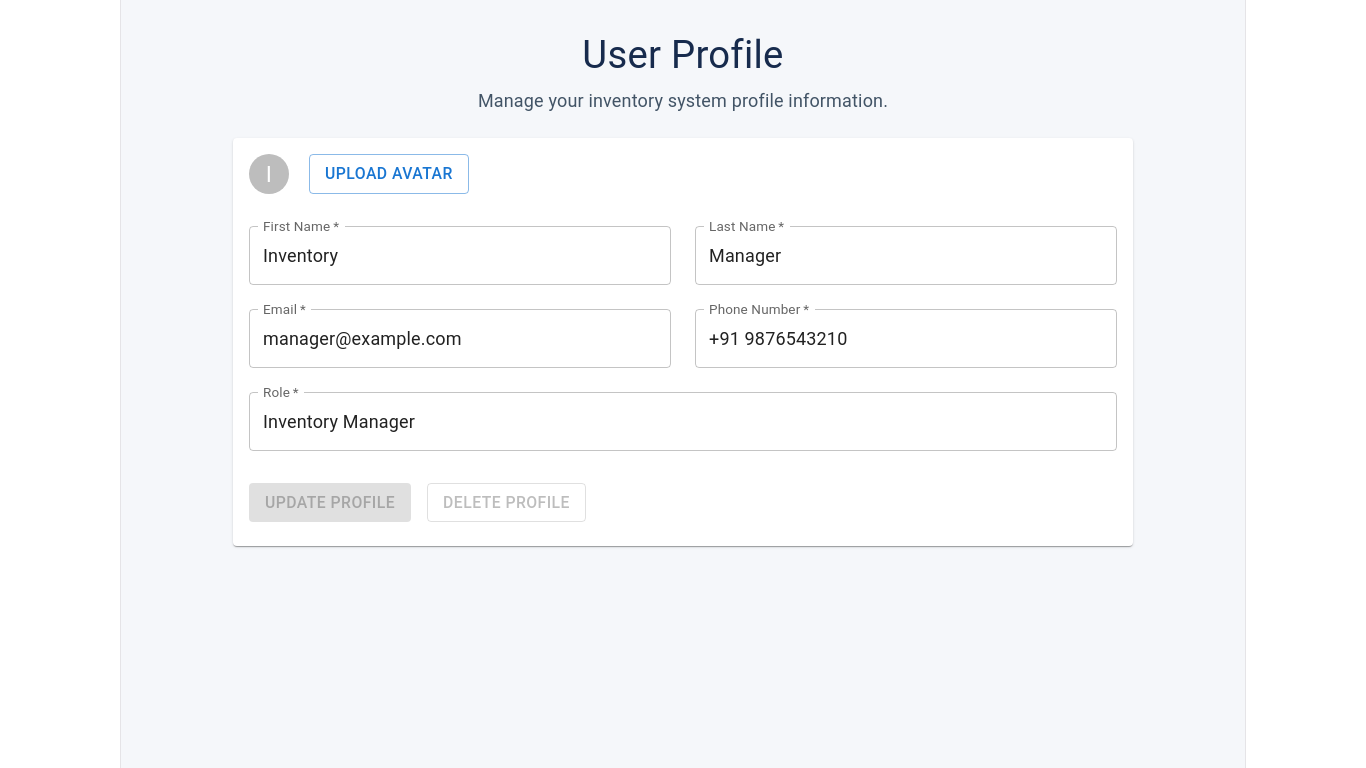
Test case: Profile integration › loads, updates, and deletes the user profile
This screenshot has width=1366, height=768.
Expected: the field showing "Inventory" is shown, top-left (249, 226), bottom-right (671, 285)
Replace the text in the field labelled "Last Name *" with "Administrator" at (906, 256), box top-left (695, 226), bottom-right (1117, 285)
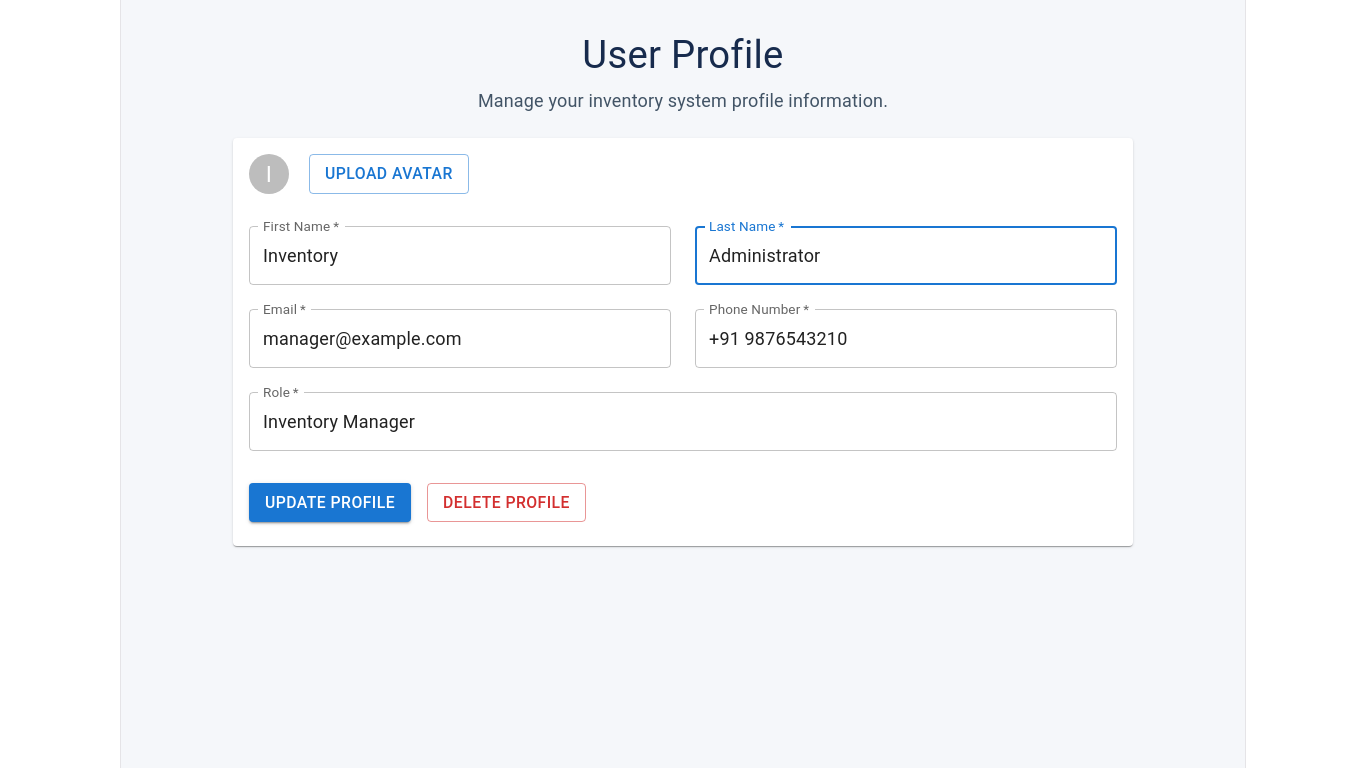
Click the button "Update Profile" at (330, 503), box top-left (249, 483), bottom-right (411, 522)
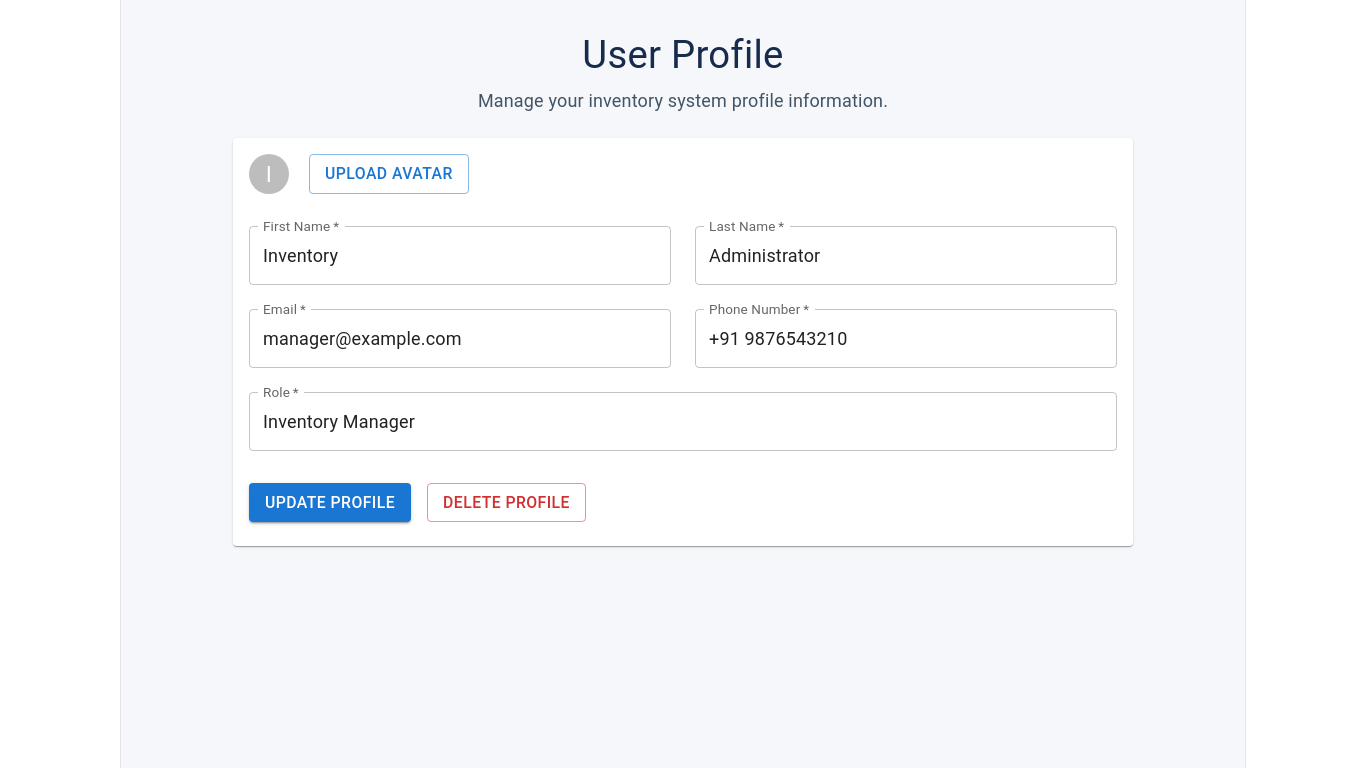
Now the button "Delete Profile" is enabled
Note: Open delete confirmation
Click the button "Delete Profile" at (506, 503), box top-left (427, 483), bottom-right (586, 522)
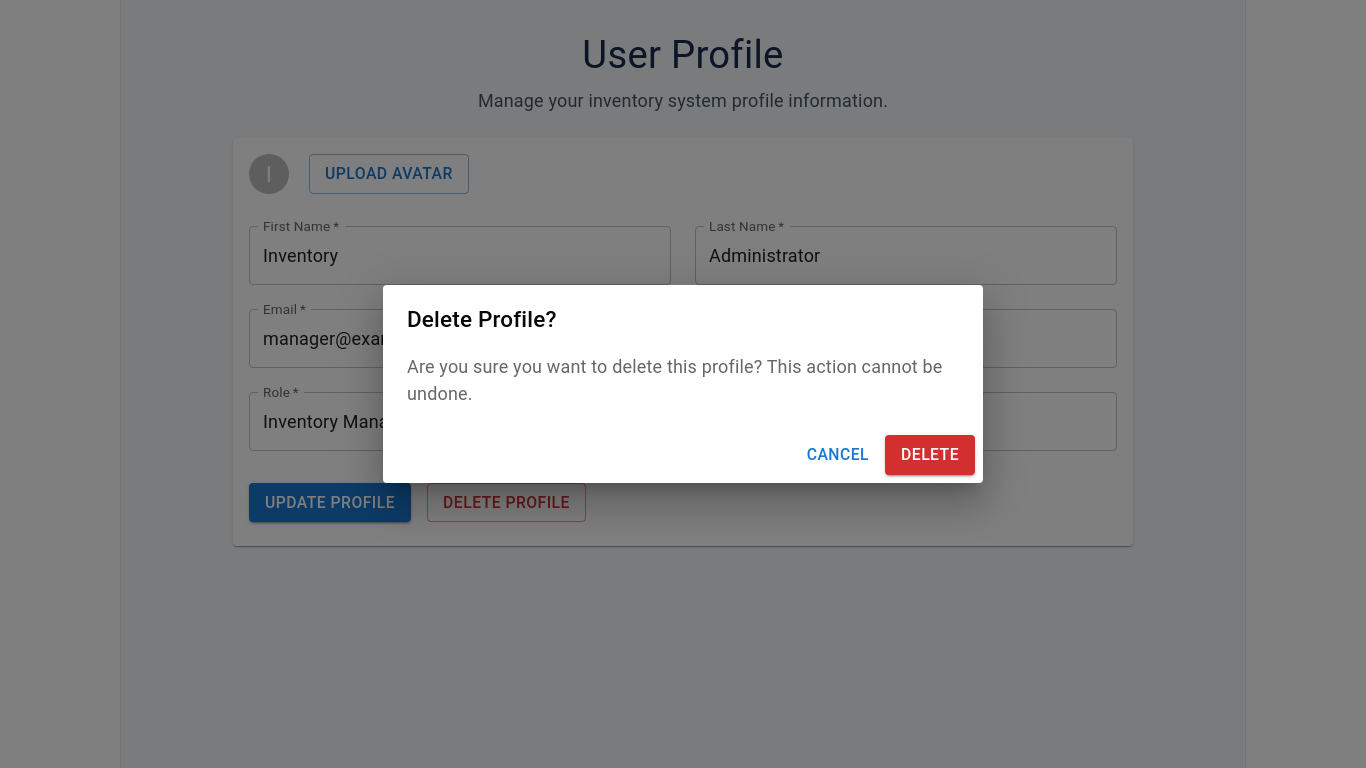
Now the dialog is shown, box top-left (383, 285), bottom-right (983, 483)
Now the text "Are you sure you want to delete this profile" is shown, box top-left (407, 356), bottom-right (942, 404)
Note: Confirm deletion
Click the button "Delete" at (930, 455), box top-left (885, 435), bottom-right (975, 475)
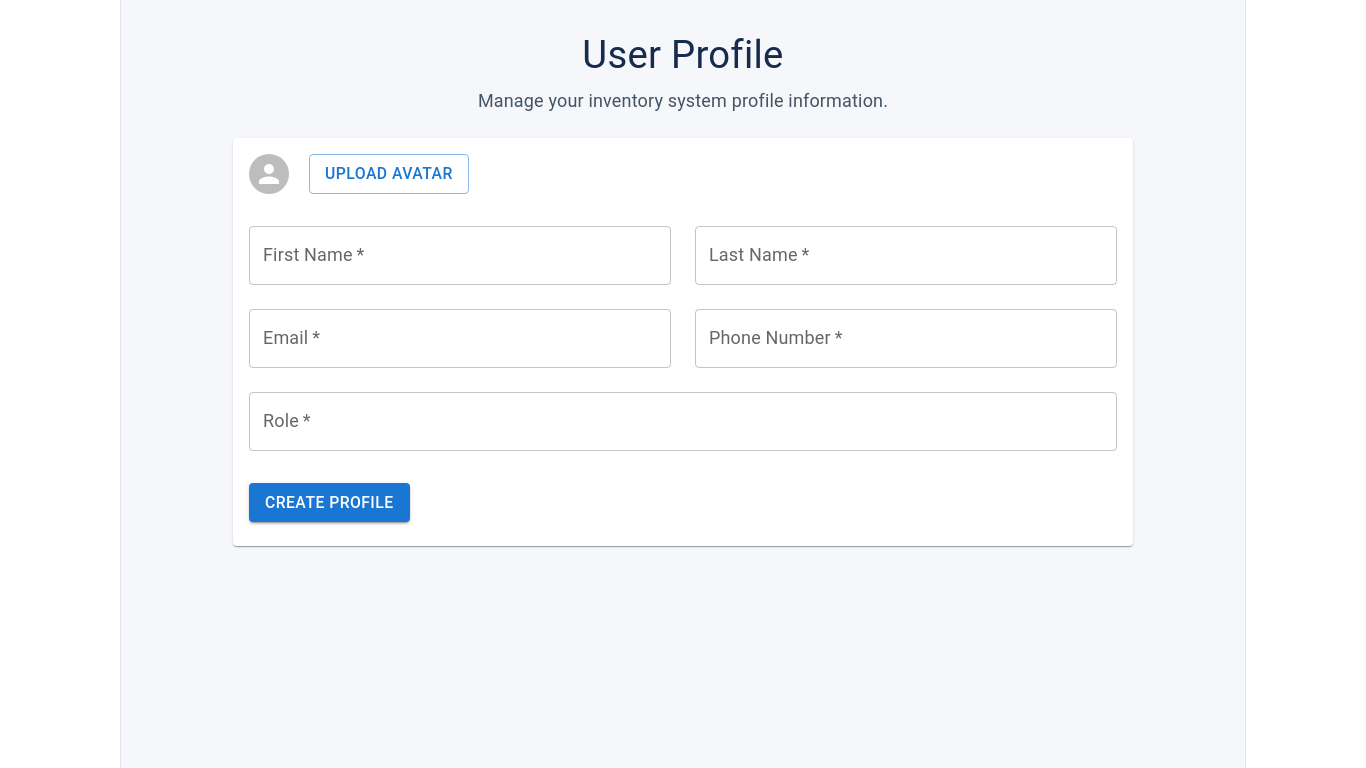
Now the button "Create Profile" is shown, box top-left (249, 483), bottom-right (410, 522)
